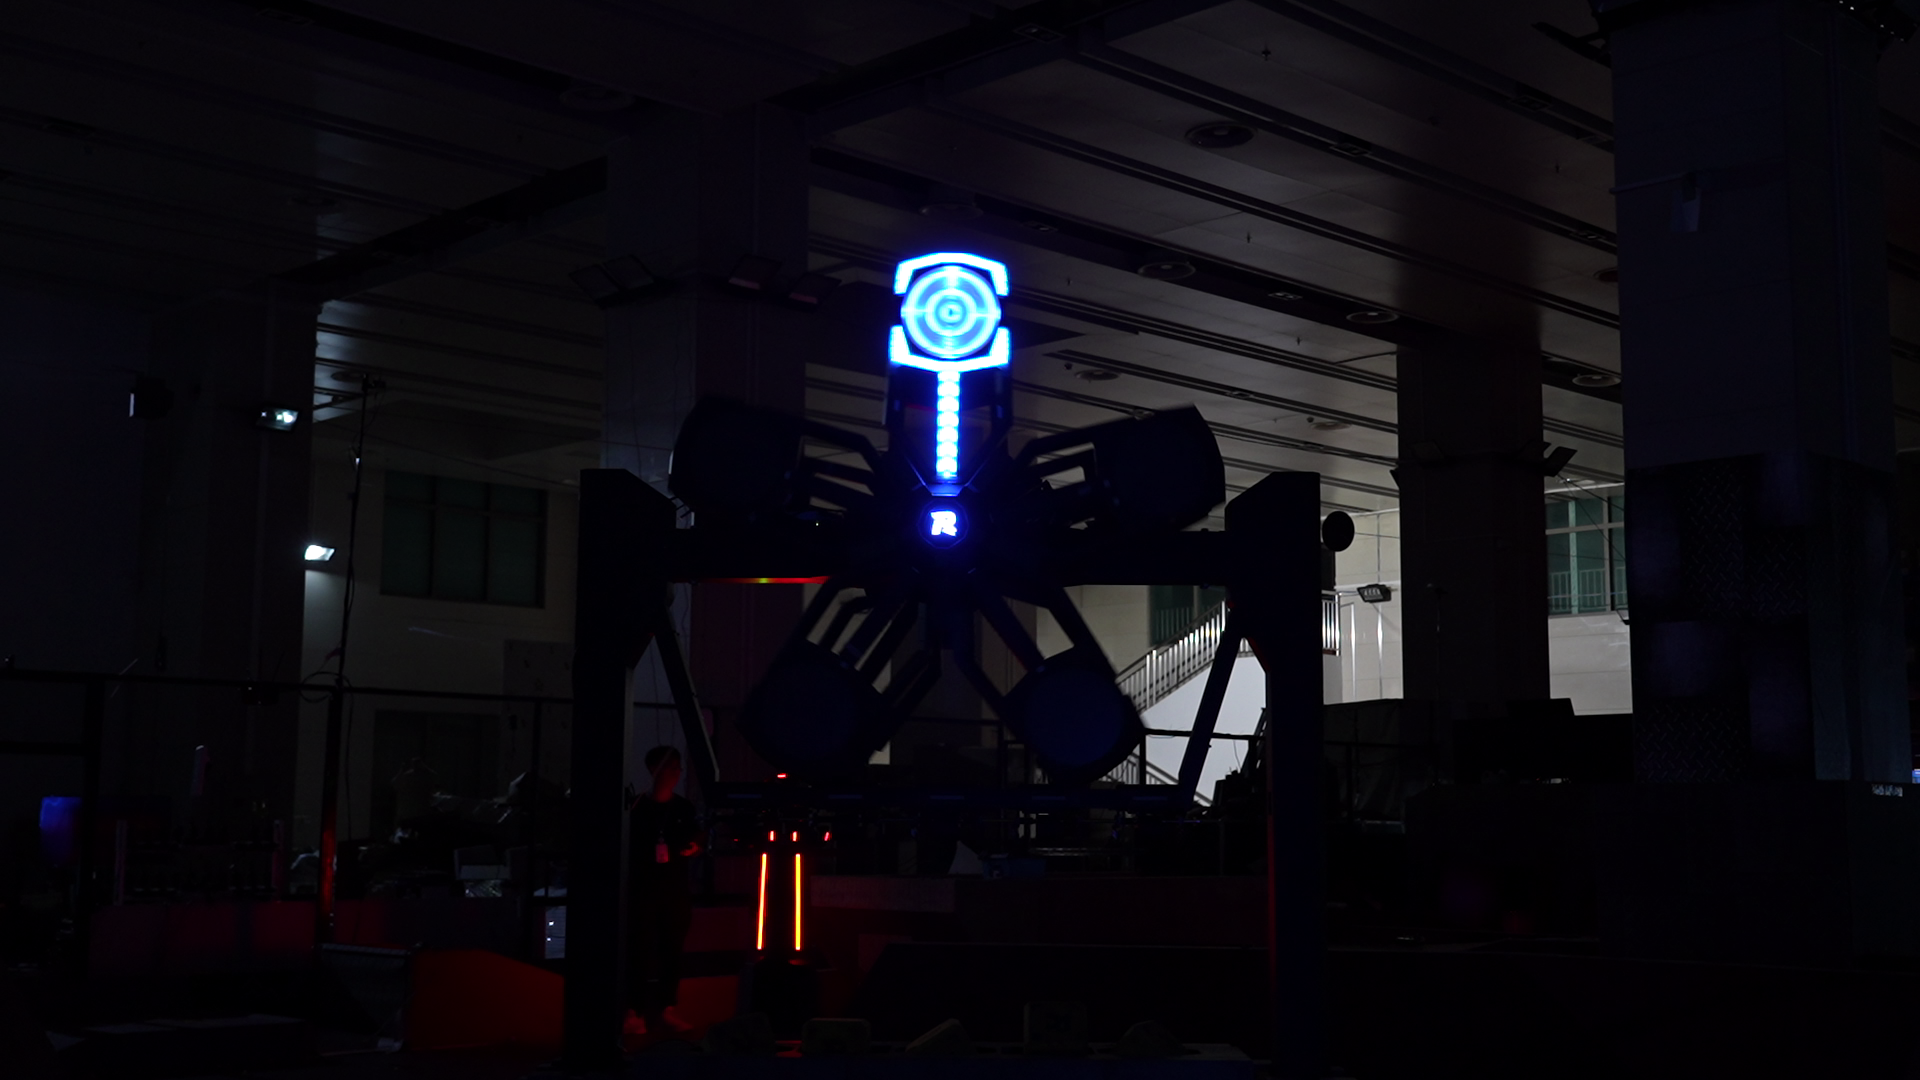R: (928, 510, 957, 535)
aim: (887, 252, 1010, 372)
